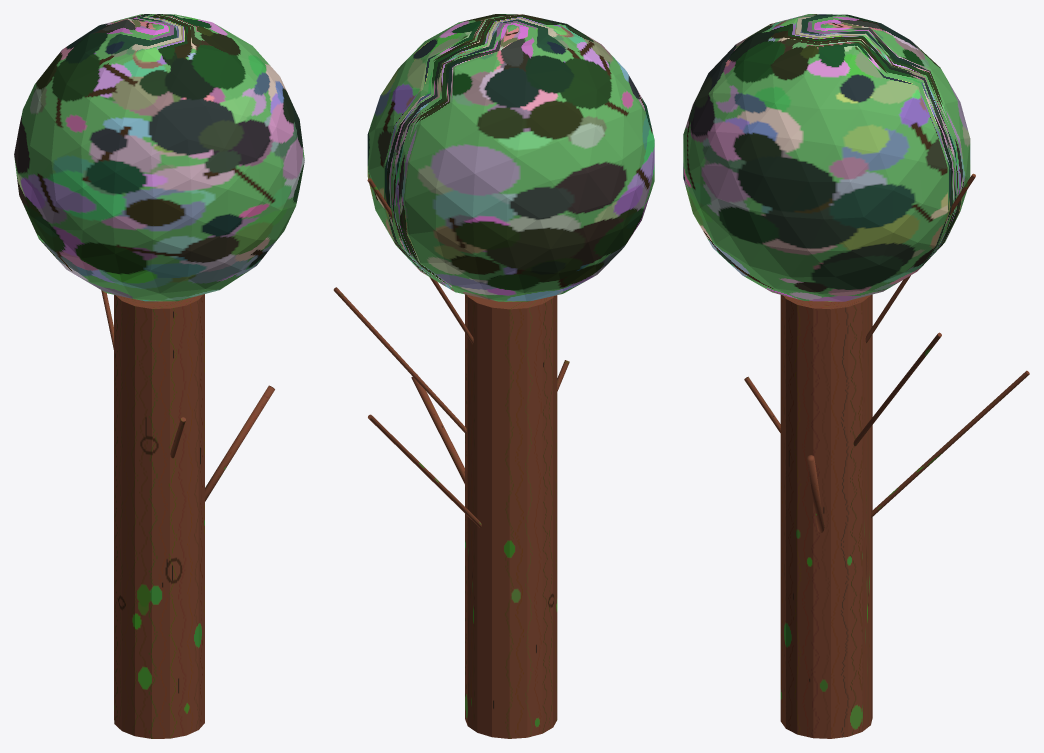
File: tree_11.glb
3 renders of one model, left to right at view 1: azimuth 30°, elevation 25°; view 2: azimuth 150°, elevation 25°; view 3: azimuth 270°, elevation 25°, orthographic.
Visible parts, largest first — view 1: tree_11_crown0, tree_11_trunk, tree_11_branch4; view 2: tree_11_crown0, tree_11_trunk, tree_11_branch0, tree_11_branch1, tree_11_branch4, tree_11_branch2; view 3: tree_11_crown0, tree_11_trunk, tree_11_branch1, tree_11_branch0, tree_11_branch4, tree_11_branch2.
Boxes of the visible parts, box(x1,y1,x2,y2) form: tree_11_crown0: box(14, 14, 304, 301); tree_11_trunk: box(114, 294, 204, 738); tree_11_branch4: box(205, 385, 274, 501); tree_11_crown0: box(367, 14, 654, 301); tree_11_trunk: box(465, 294, 557, 738); tree_11_branch0: box(333, 287, 466, 434); tree_11_branch1: box(368, 414, 481, 527); tree_11_branch4: box(411, 374, 464, 483); tree_11_branch2: box(367, 178, 473, 344); tree_11_crown0: box(683, 14, 970, 301); tree_11_trunk: box(780, 294, 872, 738); tree_11_branch1: box(871, 370, 1029, 517); tree_11_branch0: box(853, 332, 941, 446); tree_11_branch4: box(807, 455, 824, 532); tree_11_branch2: box(865, 173, 975, 342).
Bounding box in the file's own units: 1.14 × 3.01 × 1.36.
7 materials, 7 textured.
